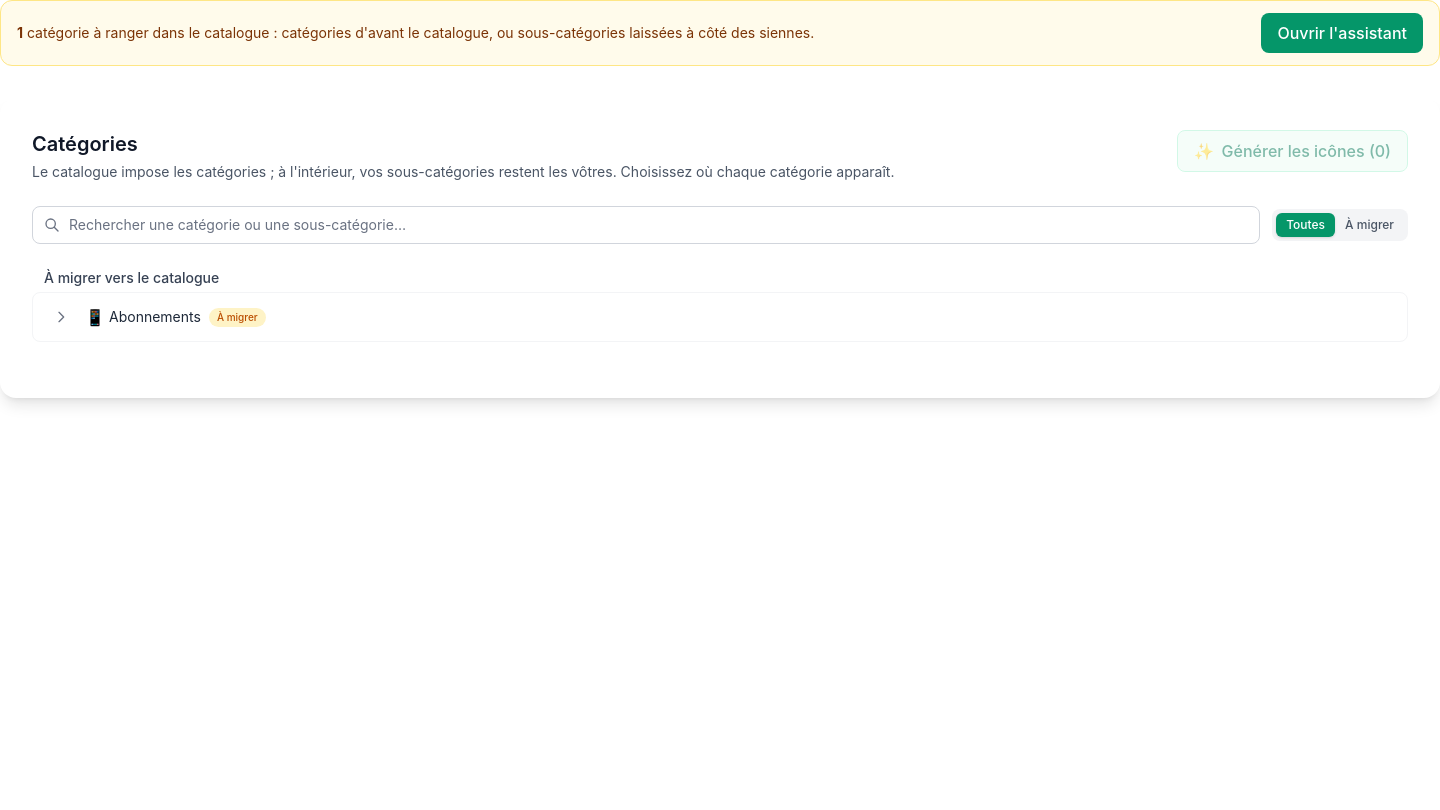
it: CategoriesSettingsPage › renames a legacy category
The width and height of the screenshot is (1440, 810).
Click the button named "Déplier Abonnements" at (61, 317), box x1=45 y1=301 x2=77 y2=333
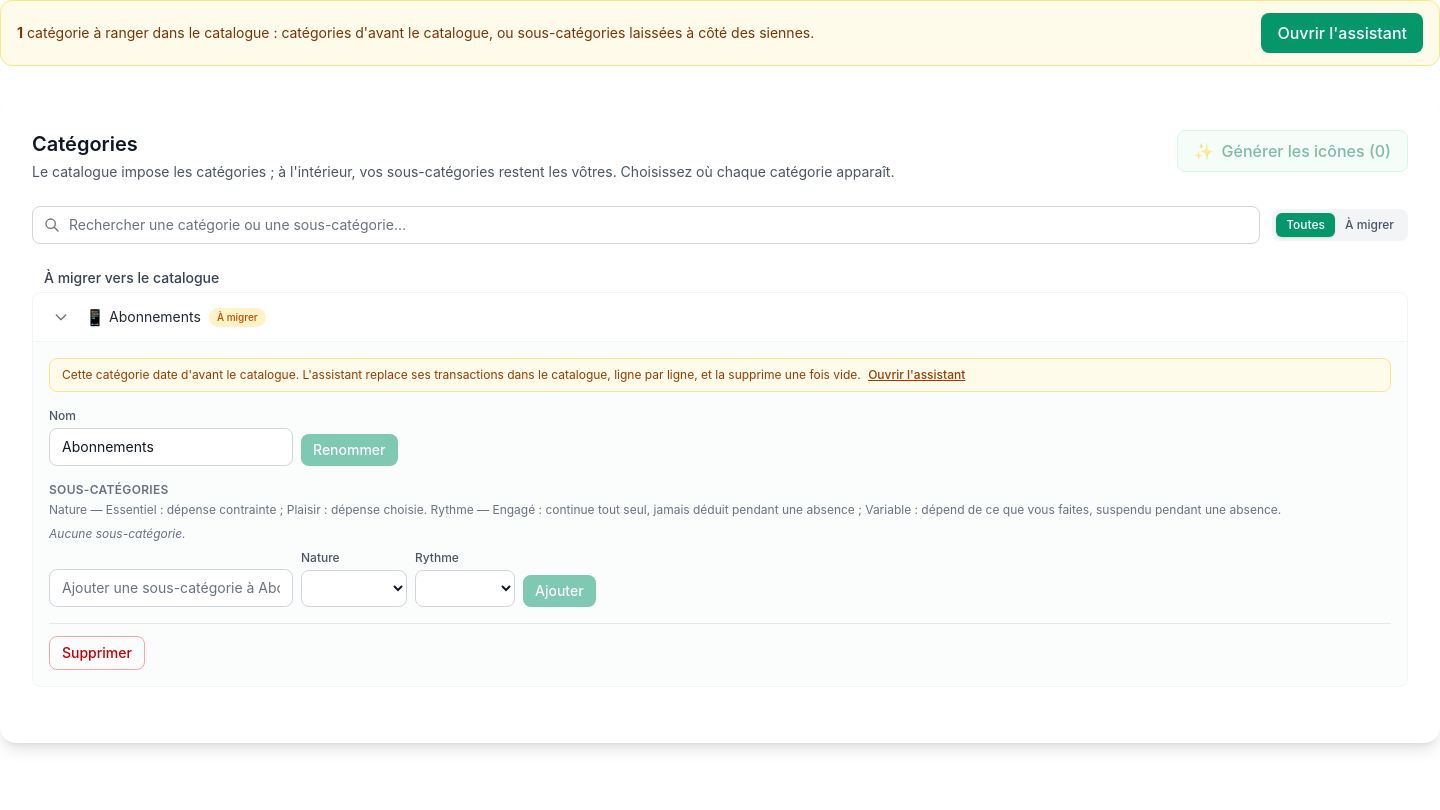
Replace the text in the field with test id "rename-input" with "Abos" at (171, 447), box x1=49 y1=428 x2=293 y2=466
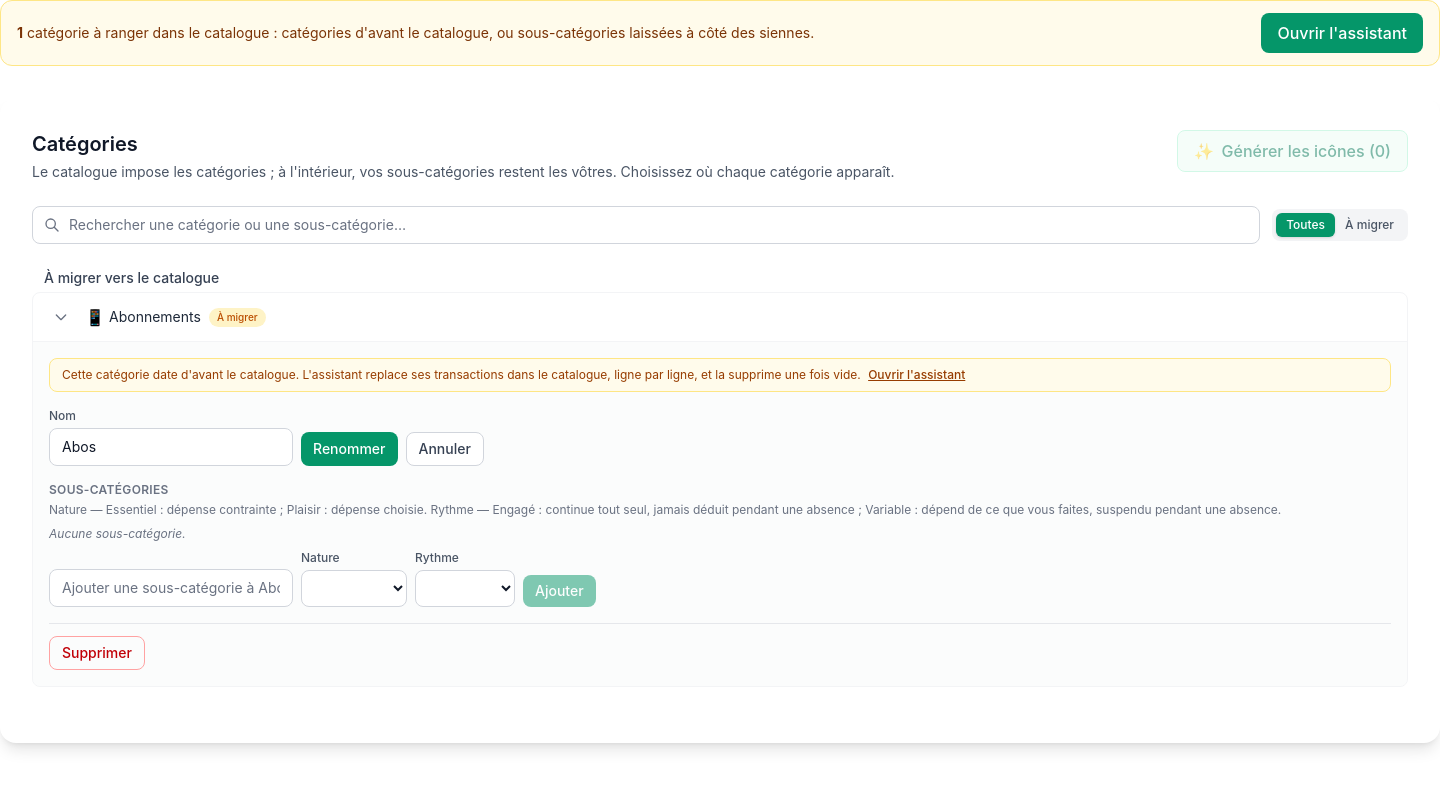
Submit the form "Nom Renommer Annuler", box x1=49 y1=408 x2=484 y2=466
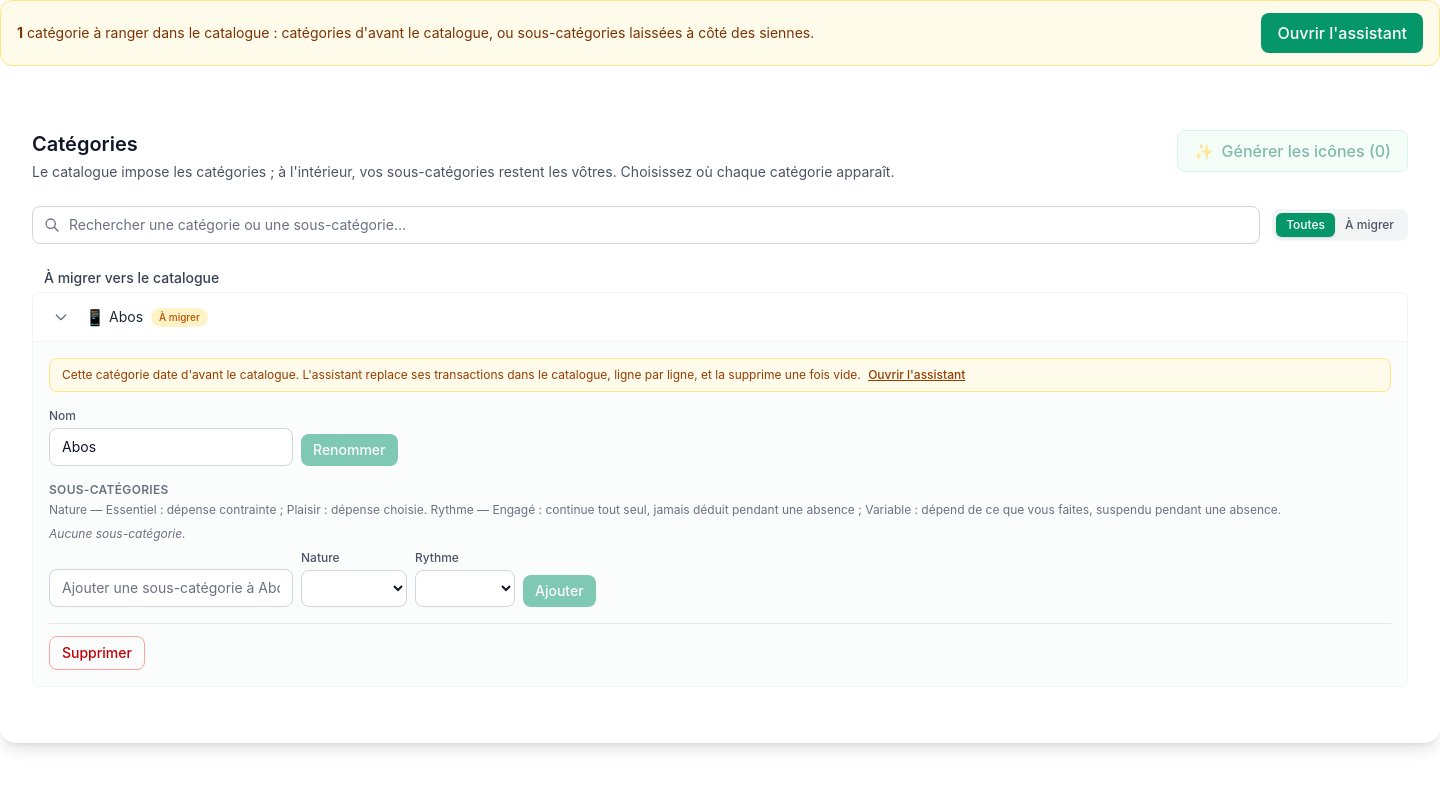
Result: the text "Abos" is shown at x1=109 y1=307 x2=143 y2=327
